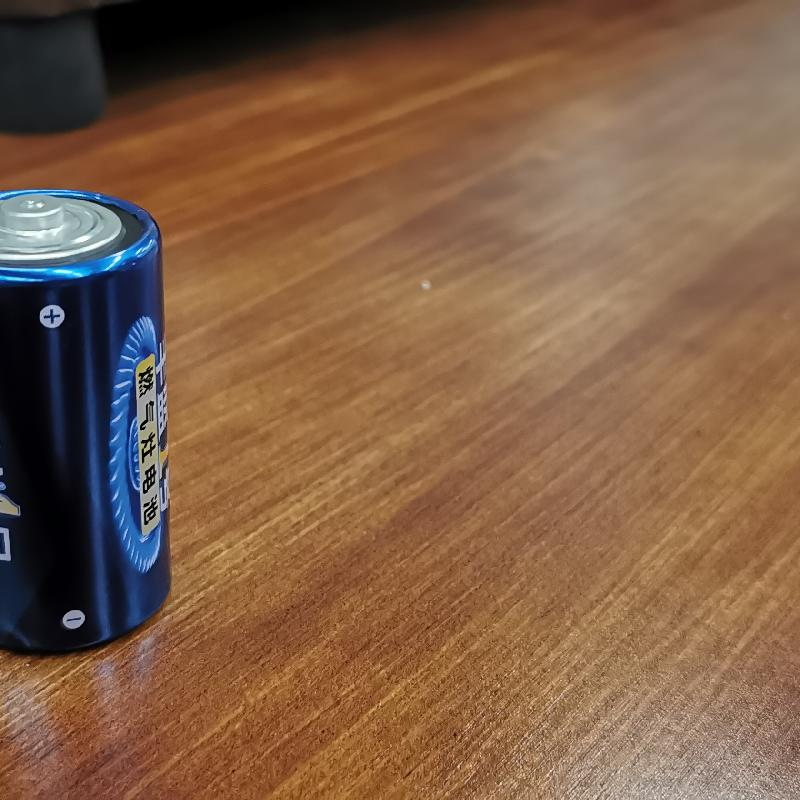battery: (4, 167, 172, 655)
